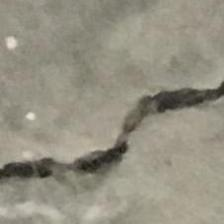Crack: (0, 69, 224, 192)
